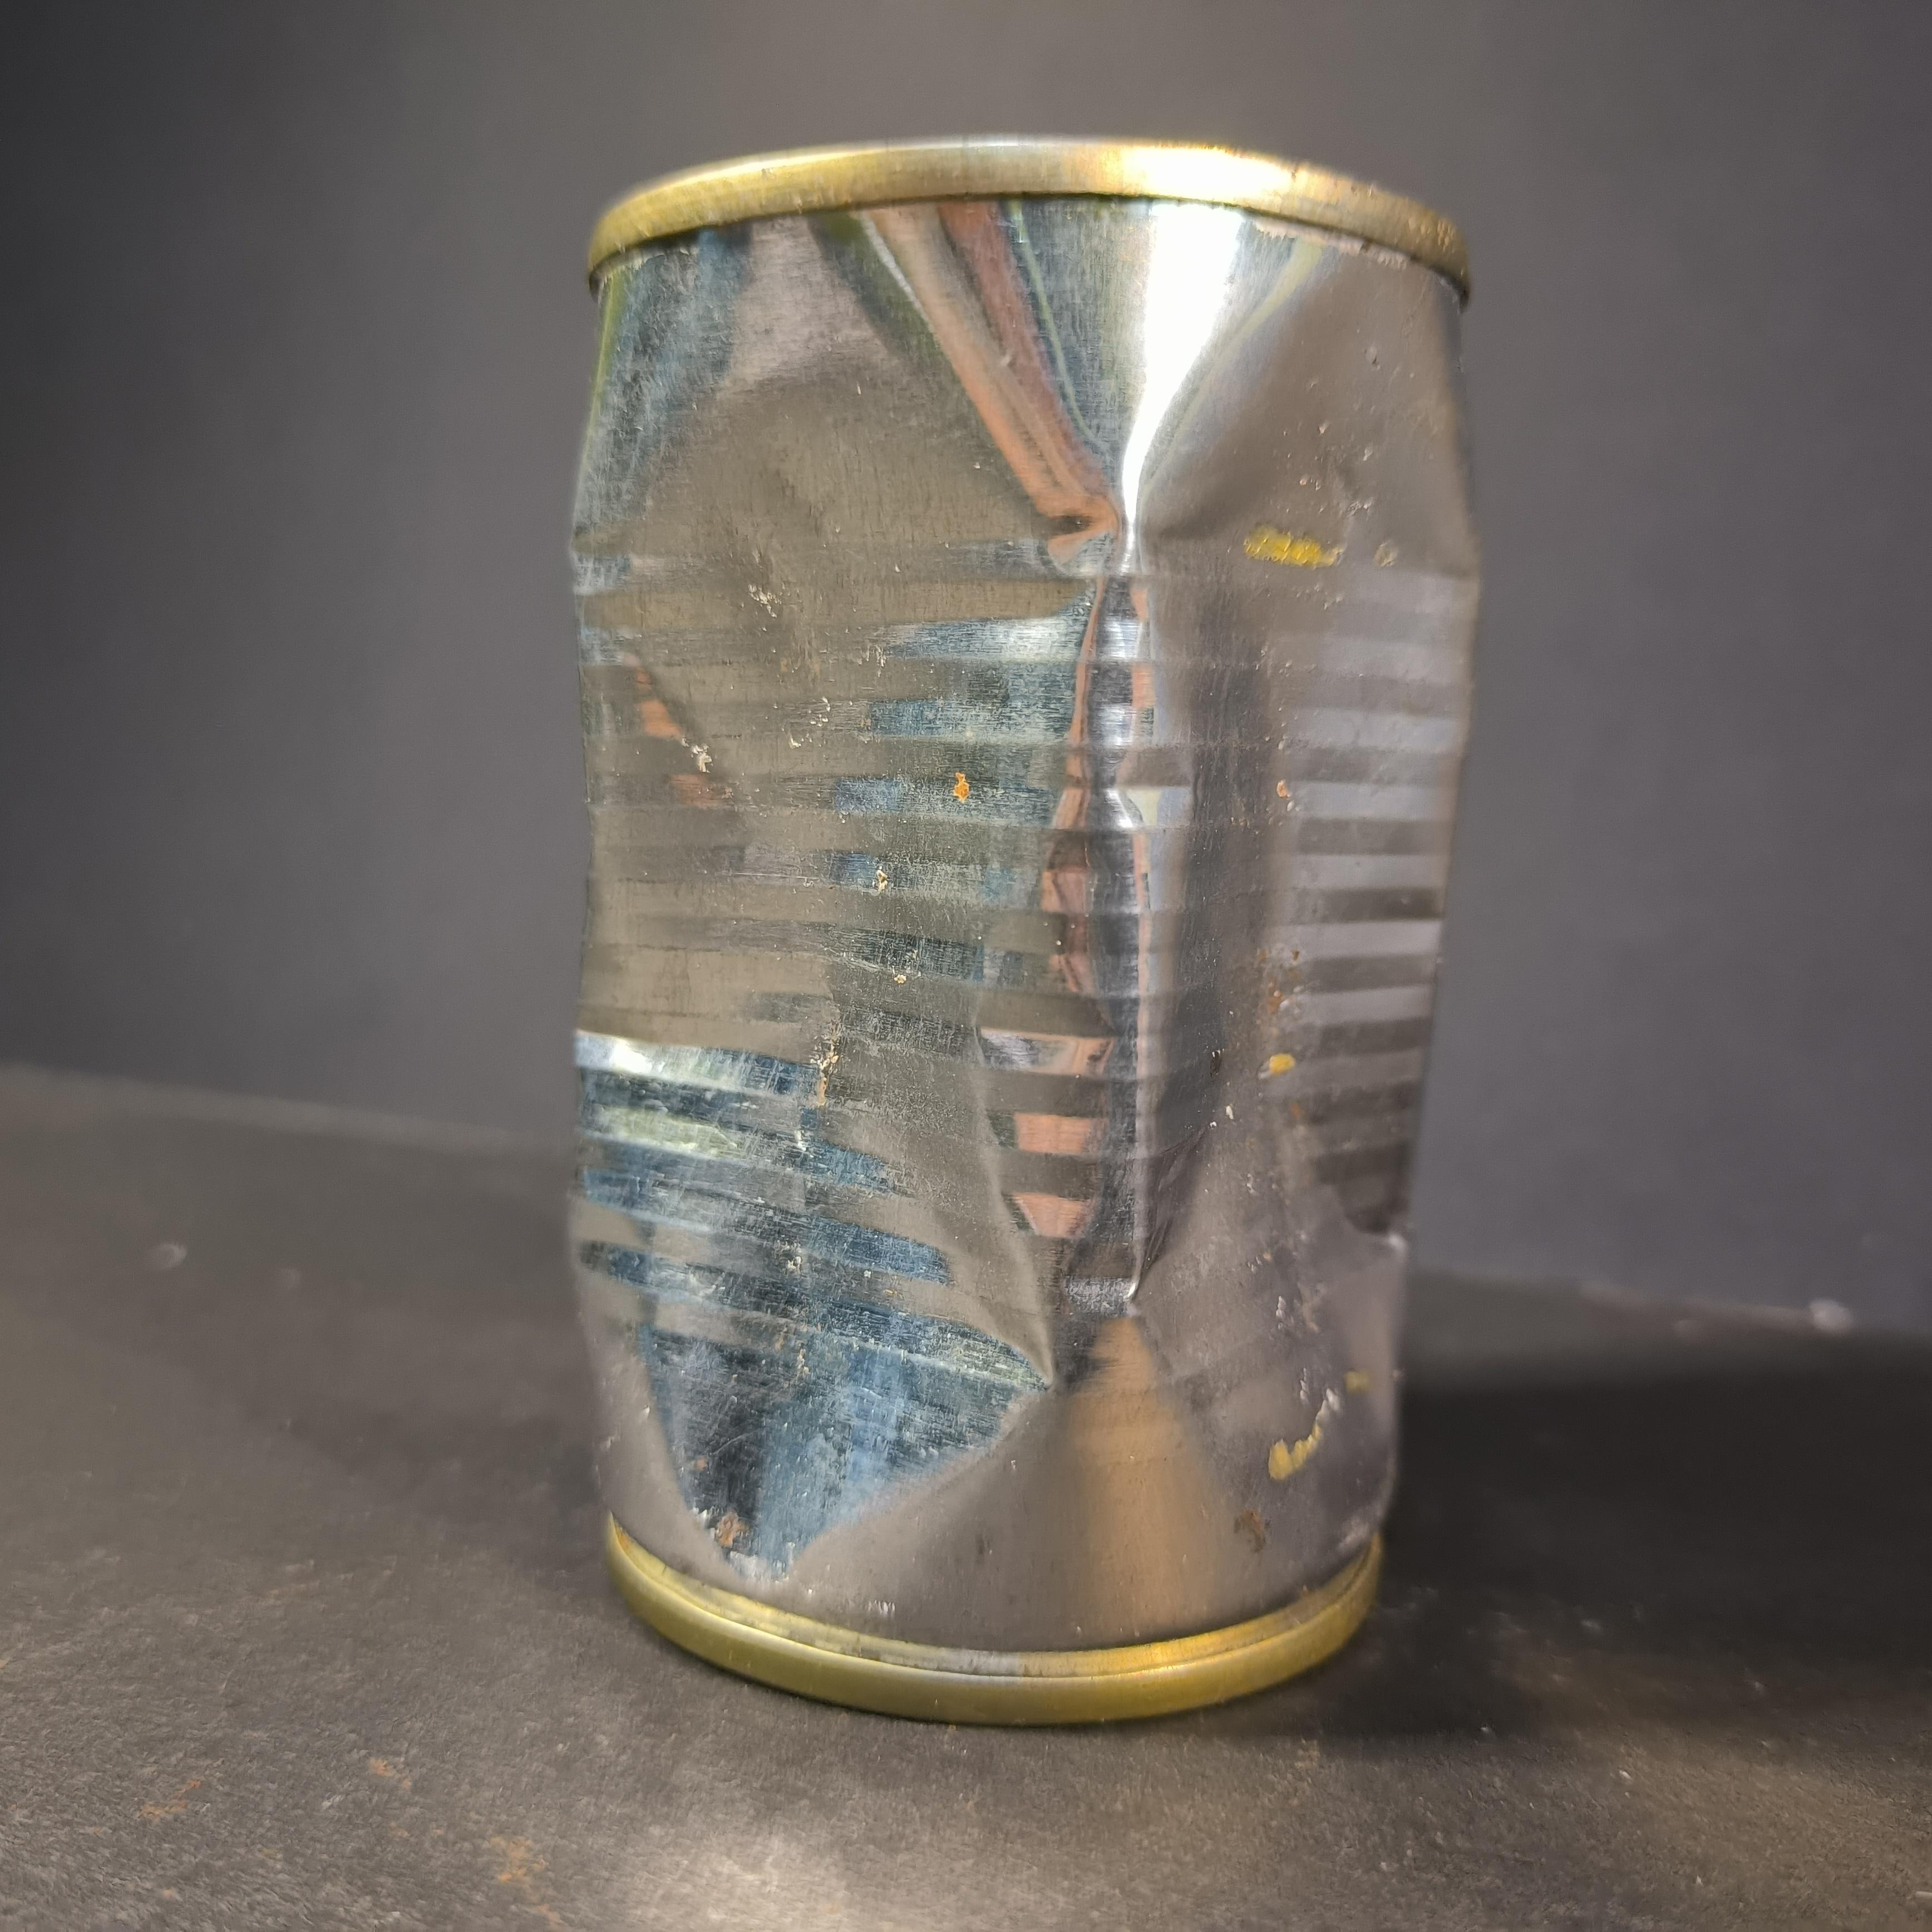Dented: (517, 106, 1507, 1721)
